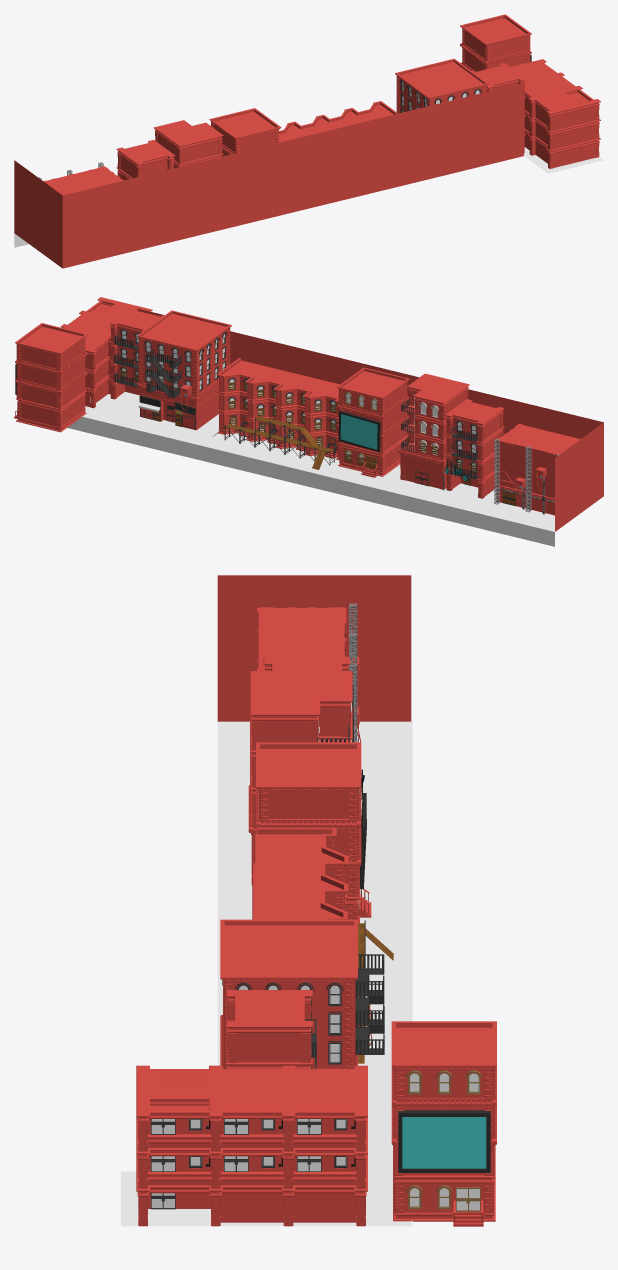
The model's file is Abandoned_Alleyway.fbx.
3 renders of one model, top to bottom at view 1: azimuth 30°, elevation 25°; view 2: azimuth 150°, elevation 25°; view 3: azimuth 270°, elevation 25°, orthographic. The views are drawn at different scales.
Visible parts, largest first — view 1: Alley_Way_BG_Wall, Cornice_LightGray_V2.544, Cornice_Corner_LightGray_V2.196, Cornice_LightGray_V2.430, BrickWall_Window_V2.R.110, BrickWallLight_Window_V1_1.482, Cornice_Corner_LightGray_V2.001, Metal_Panel_V1_3.128, BrickWallThin_2_B.082, Metal_Panel_V1_3.229, Cornice_LightGray_V2.115, Cornice_LightGray_V2.534 (+4 smaller); view 2: Alley_Way_Road, Alley_Way_BG_Wall, Cornice_LightGray_V2.544, Cornice_LightGray_V2.430, Metal_Panel_V1_3.128, BrickWall_Window_V2.R.110, BrickWallThin_2_B.082, Cornice_Corner_LightGray_V2.196, BrickWallThin_2_B.081, PropBuilding3_Billboard.003, Cornice_Corner_LightGray_V2.001, Metal_Panel_V1_3.010 (+8 smaller); view 3: Alley_Way_Road, Alley_Way_BG_Wall, Cornice_LightGray_V2.544, Cornice_Corner_LightGray_V2.196, Cornice_LightGray_V2.430, BrickWall_Window_V2.R.110, BrickWallThin_2_B.082, BrickWallLight_Window_V1_1.482, PropBuilding3_Billboard.004, Cornice_Corner_LightGray_V2.001, Metal_Panel_V1_3.229, Metal_Panel_V1_3.128 (+10 smaller).
Boxes of the visible parts, x1,y1,x2,y2 form: Alley_Way_BG_Wall: (14,83,523,268); Cornice_LightGray_V2.544: (460,14,531,71); Cornice_Corner_LightGray_V2.196: (510,59,600,116); Cornice_LightGray_V2.430: (209,108,281,156); BrickWall_Window_V2.R.110: (395,58,488,99); BrickWallLight_Window_V1_1.482: (524,92,595,149); Cornice_Corner_LightGray_V2.001: (153,120,223,149); Metal_Panel_V1_3.128: (44,166,122,195); BrickWallThin_2_B.082: (279,104,393,142); Metal_Panel_V1_3.229: (524,132,595,167); Cornice_LightGray_V2.115: (116,140,175,167); Cornice_LightGray_V2.534: (472,63,525,90); Alley_Way_Road: (67,392,554,546); Alley_Way_BG_Wall: (137,308,603,531); Cornice_LightGray_V2.544: (15,323,87,432); Cornice_LightGray_V2.430: (337,367,409,476); Metal_Panel_V1_3.128: (499,424,580,496); BrickWall_Window_V2.R.110: (137,310,231,352); BrickWallThin_2_B.082: (222,360,339,397); Cornice_Corner_LightGray_V2.196: (60,297,152,355); BrickWallThin_2_B.081: (221,376,338,417); PropBuilding3_Billboard.003: (338,410,380,452); Cornice_Corner_LightGray_V2.001: (407,373,469,406); Metal_Panel_V1_3.010: (400,389,468,489); Alley_Way_Road: (121,721,411,1226); Alley_Way_BG_Wall: (217,575,411,721); Cornice_LightGray_V2.544: (391,1021,496,1221); Cornice_Corner_LightGray_V2.196: (136,1065,367,1122); Cornice_LightGray_V2.430: (256,742,361,923); BrickWall_Window_V2.R.110: (220,919,357,981); BrickWallThin_2_B.082: (255,834,343,919); BrickWallLight_Window_V1_1.482: (148,1105,356,1185); PropBuilding3_Billboard.004: (398,1110,490,1172); Cornice_Corner_LightGray_V2.001: (250,671,352,720); Metal_Panel_V1_3.229: (148,1193,356,1222); Metal_Panel_V1_3.128: (258,608,344,670).
Size of the model in its own units: 7413 by 1379 by 2331.
128 materials, 13 textured.
